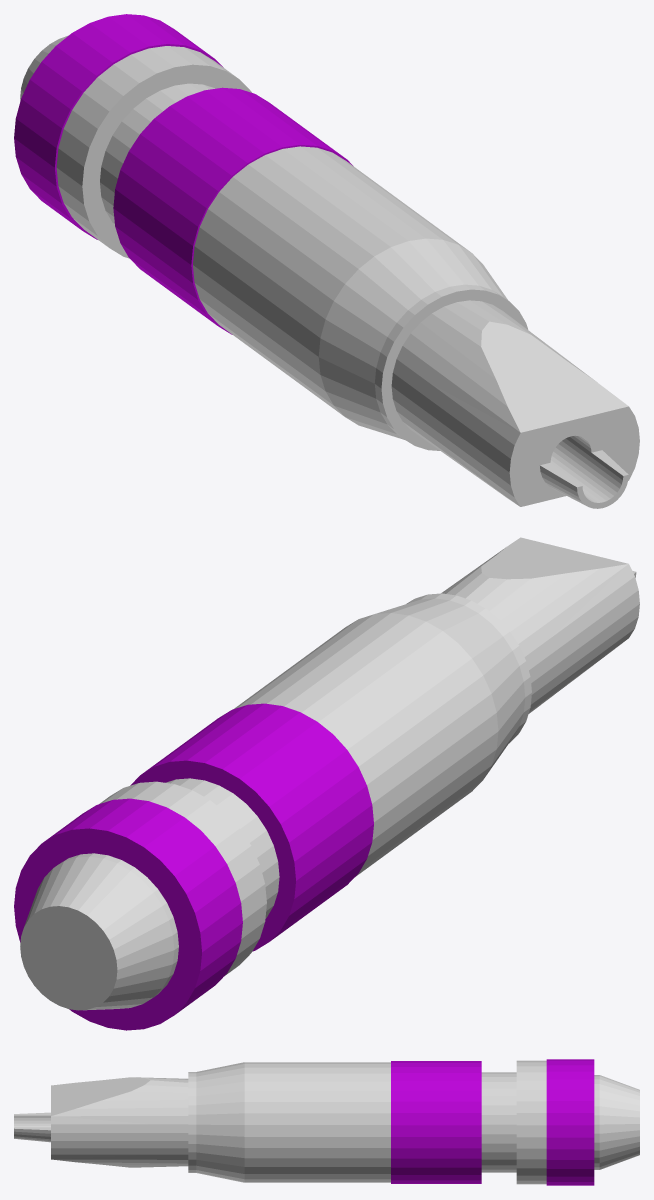
File: suppressor_ru_5_45.fbx
The picture shows the model from 3 angles, top to bottom: view 1: azimuth 30°, elevation 25°; view 2: azimuth 150°, elevation 25°; view 3: azimuth 270°, elevation 25°; orthographic projection. The views are drawn at different scales.
Parts seen in each view (by area): view 1: Cylinder; view 2: Cylinder; view 3: Cylinder.
Boxes of the visible parts, x1,y1,x2,y2 form: Cylinder: (14,14,639,508); Cylinder: (14,537,639,1030); Cylinder: (14,1059,639,1185).
Bounding box in the file's own units: 2.64 × 13.08 × 2.64.
